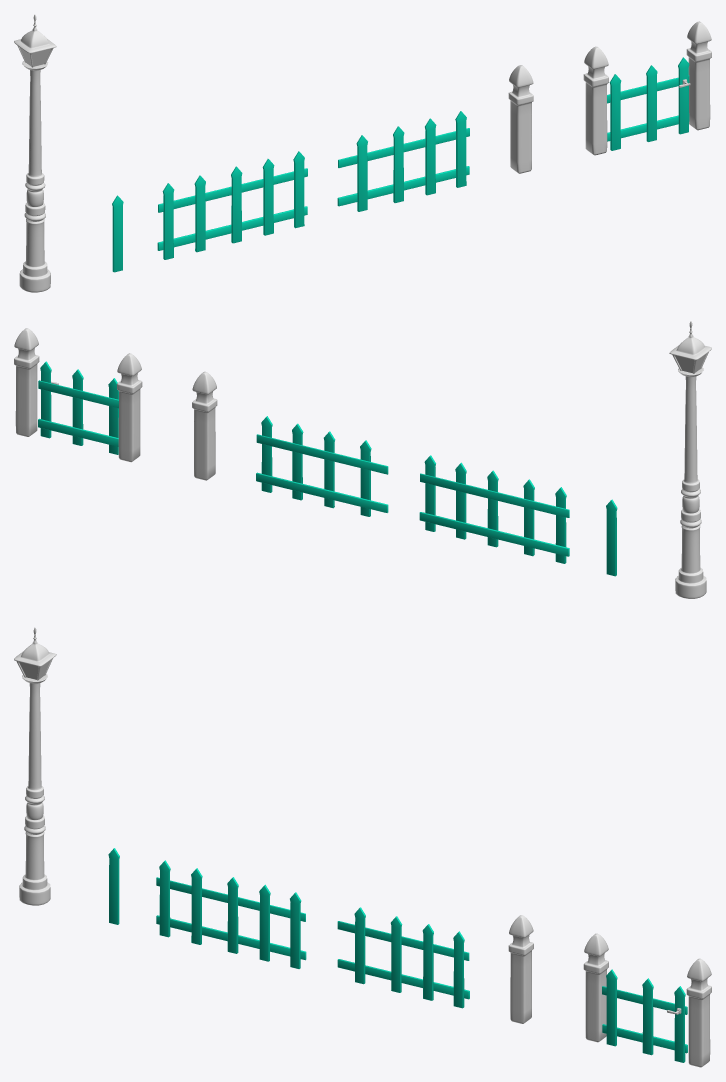
Rendered from fencing.fbx.
3 renders of one model, top to bottom at view 1: azimuth 30°, elevation 25°; view 2: azimuth 150°, elevation 25°; view 3: azimuth 330°, elevation 25°, orthographic.
Parts seen in each view (by area): view 1: Fence_Complete, Fence_Connector, Fence_Post.002, Lamp Post, Fence_Gate, Fence_Post, Fence_Piece, LampCover; view 2: Fence_Complete, Fence_Connector, Fence_Post.002, Lamp Post, Fence_Gate, Fence_Post, Fence_Piece, LampCover; view 3: Fence_Complete, Fence_Connector, Fence_Post.002, Lamp Post, Fence_Gate, Fence_Post, Fence_Piece, LampCover.
Part boxes in pixels (x1,y1,x2,y2): Fence_Complete: (157,151,307,259); Fence_Connector: (337,111,469,211); Fence_Post.002: (583,21,711,155); Lamp Post: (19,61,50,292); Fence_Gate: (607,57,689,150); Fence_Post: (508,65,533,173); Fence_Piece: (112,195,123,272); LampCover: (14,14,56,67); Fence_Complete: (419,455,569,563); Fence_Connector: (256,416,388,516); Fence_Post.002: (14,328,142,462); Lamp Post: (675,367,706,598); Fence_Gate: (38,361,118,454); Fence_Post: (192,371,217,480); Fence_Piece: (606,499,617,576); LampCover: (669,321,711,373); Fence_Complete: (156,860,306,968); Fence_Connector: (337,907,469,1008); Fence_Post.002: (583,933,711,1067); Lamp Post: (19,674,50,905); Fence_Gate: (602,969,687,1062); Fence_Post: (508,915,533,1023); Fence_Piece: (108,848,119,924); LampCover: (14,627,56,680).
Size of the model in its own units: 2022 by 773 by 84.21.
